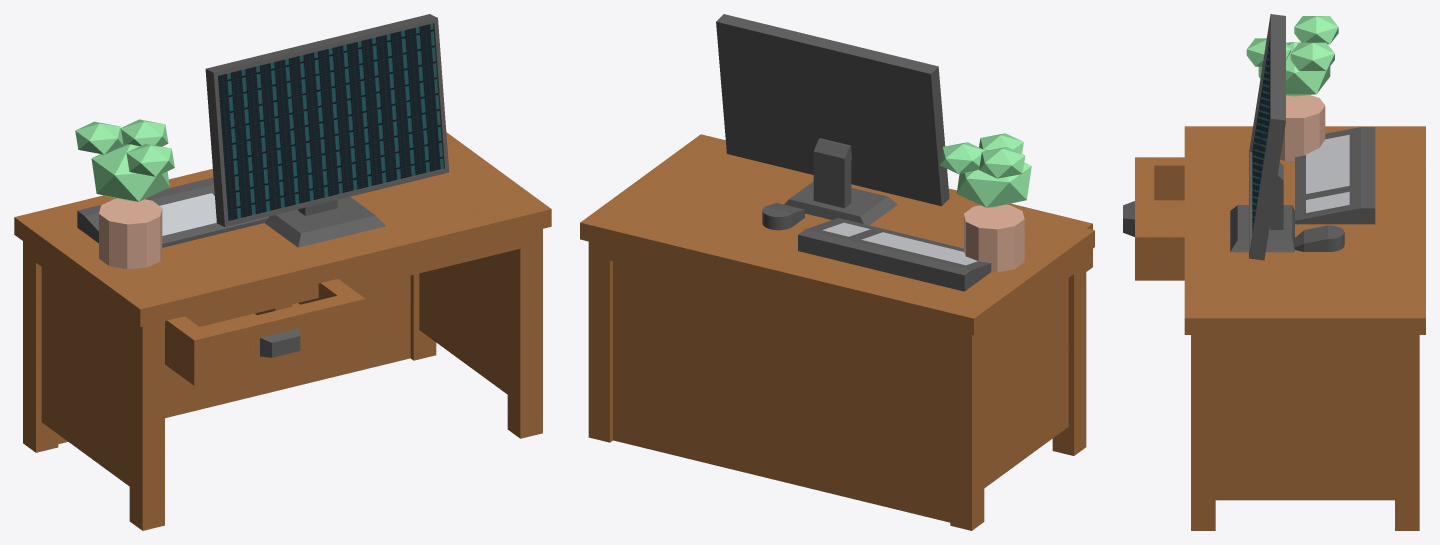
File: mesh_prop-desk.glb
3 views of the same model, side by side, from view 1: azimuth 30°, elevation 25°; view 2: azimuth 150°, elevation 25°; view 3: azimuth 270°, elevation 25° (orthographic). The views are drawn at different scales.
Visible parts, largest first — view 1: mesh_prop-desk; view 2: mesh_prop-desk; view 3: mesh_prop-desk.
Part boxes in pixels (x1,y1,x2,y2): mesh_prop-desk: [14, 14, 551, 530]; mesh_prop-desk: [580, 14, 1094, 530]; mesh_prop-desk: [1123, 14, 1425, 530].
Bounding box in the file's own units: 1.14 × 1.06 × 0.76.
6 materials, 2 textured.
